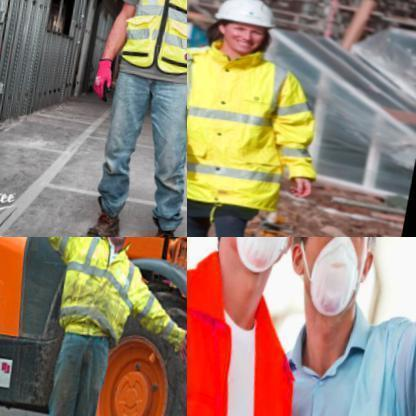Glass: (188, 6, 326, 211), (121, 0, 186, 78)
